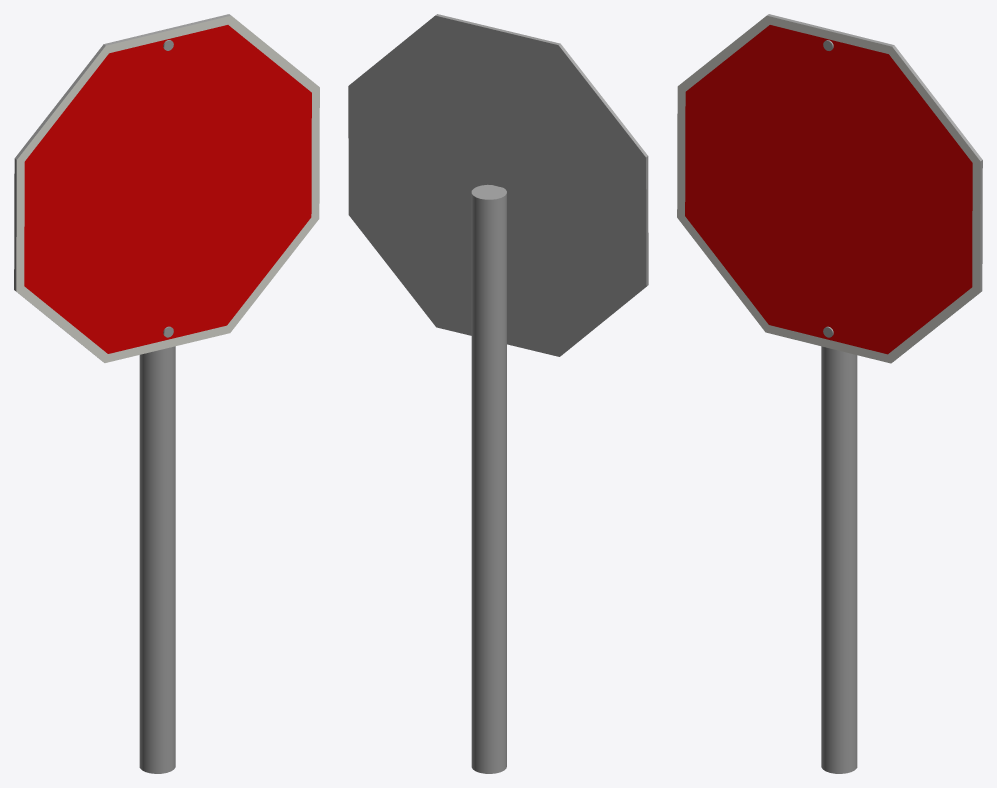
Rendered from Stop_Sign.fbx.
3 renders of one model, left to right at view 1: azimuth 30°, elevation 25°; view 2: azimuth 150°, elevation 25°; view 3: azimuth 330°, elevation 25°, orthographic.
Visible parts, largest first — view 1: Sign, Pole; view 2: Sign, Pole; view 3: Sign, Pole.
Boxes of the visible parts, left/top/right/bottom form: Sign: left=14, top=14, right=319, bottom=362; Pole: left=139, top=346, right=175, bottom=773; Sign: left=348, top=14, right=648, bottom=356; Pole: left=471, top=184, right=506, bottom=773; Sign: left=677, top=14, right=982, bottom=363; Pole: left=821, top=346, right=857, bottom=773.
Bounding box in the file's own units: 1.45 × 3.39 × 0.1694.
